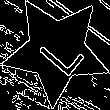L_NW: (28, 22, 85, 79)
